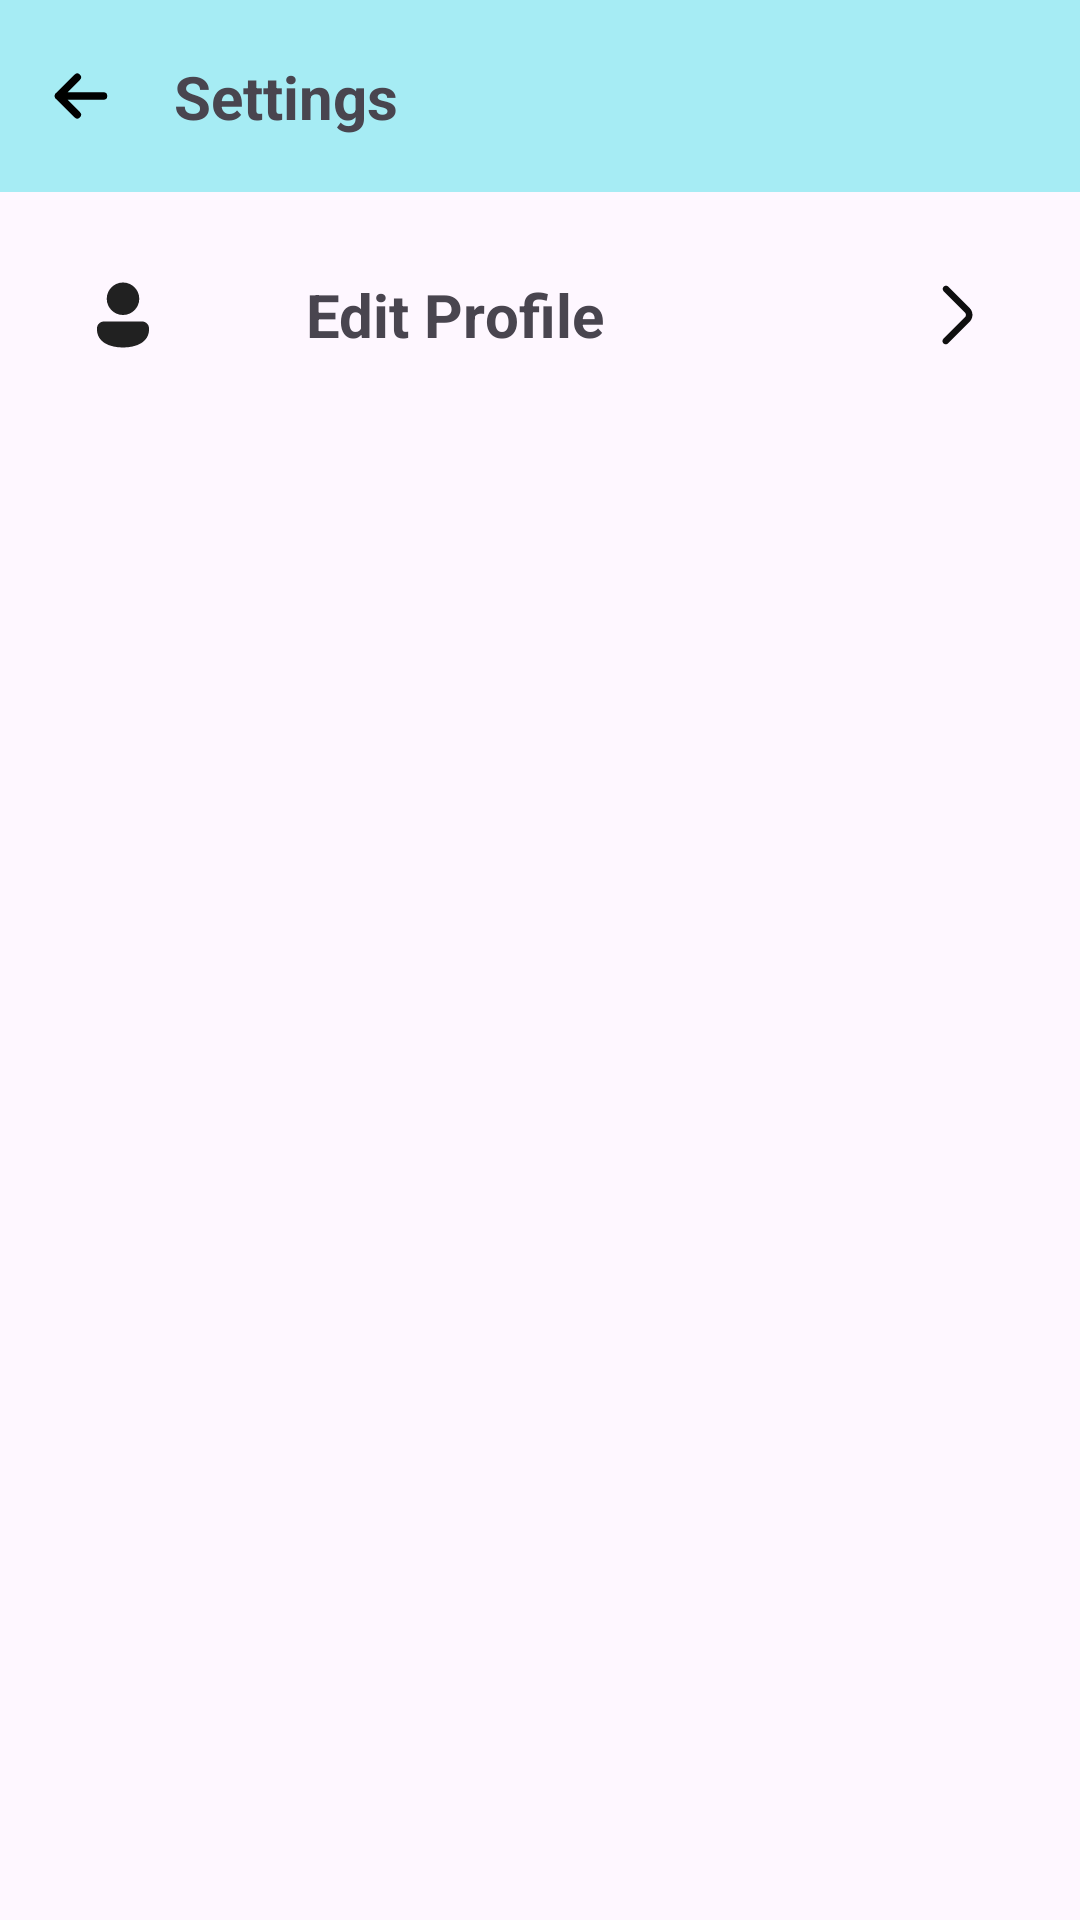

Where icons sit on this 1080px x 1920px app screen, as bbox=[x1, y1, x2, y2]:
back arrow: bbox=[54, 73, 108, 119]
forward: bbox=[942, 285, 973, 345]
